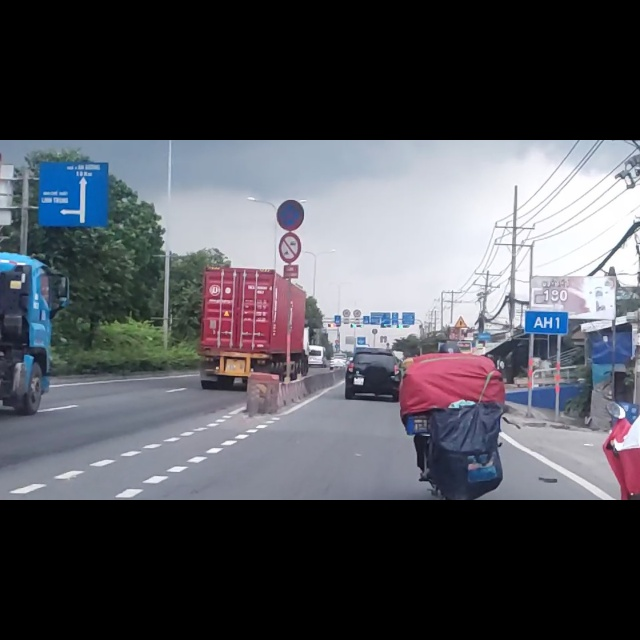bien_chi_dan: (276, 105, 305, 160), (279, 165, 301, 219)
